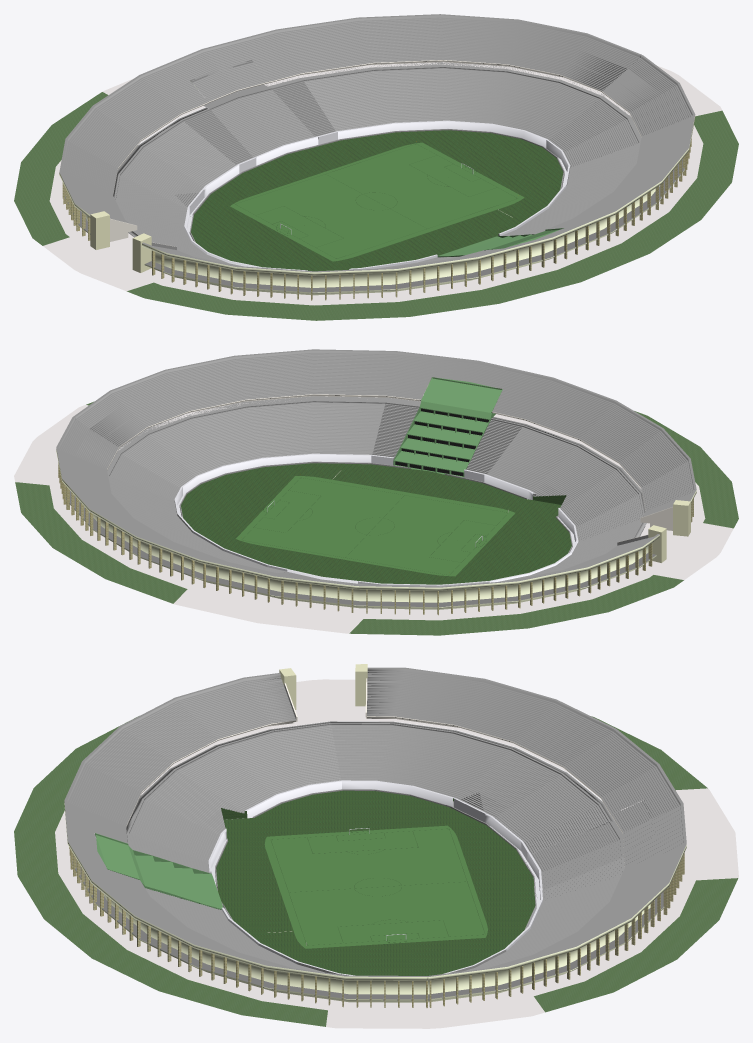
The model's file is Olympia.gltf.
3 renders of one model, top to bottom at view 1: azimuth 30°, elevation 25°; view 2: azimuth 150°, elevation 25°; view 3: azimuth 270°, elevation 25°, orthographic. The views are drawn at different scales.
Visible parts, largest first — view 1: G-__555591, Stadium Body, Stadium Body Sub Floor, G-__555609, Stadium Body.001, Soccer_Field, Stadium Body Sub Floor.001, G-LOWER PRESS, G-Press Upper Stands, G-__555681, G-__555672, G-__555663; view 2: Stadium Body Sub Floor.001, Stadium Body.001, G-__555591, G-__555609, Stadium Body, Soccer_Field, G-__555681, Stadium Body Sub Floor, G-__555663, G-__555672; view 3: G-__555591, Stadium Body, Stadium Body.001, Stadium Body Sub Floor, G-__555609, Soccer_Field, Stadium Body Sub Floor.001, G-__555681, G-LOWER PRESS, G-Press Upper Stands, G-stands floor, G-__555699.
Part boxes in pixels (bbox=[...]): G-__555591: bbox=[14, 62, 738, 320]; Stadium Body: bbox=[59, 14, 641, 241]; Stadium Body Sub Floor: bbox=[113, 62, 604, 254]; G-__555609: bbox=[191, 130, 563, 271]; Stadium Body.001: bbox=[142, 55, 695, 295]; Soccer_Field: bbox=[230, 142, 524, 261]; Stadium Body Sub Floor.001: bbox=[178, 97, 641, 270]; G-LOWER PRESS: bbox=[203, 84, 318, 165]; G-Press Upper Stands: bbox=[190, 59, 270, 102]; G-__555681: bbox=[437, 228, 563, 257]; G-__555672: bbox=[90, 211, 109, 249]; G-__555663: bbox=[132, 233, 151, 272]; Stadium Body Sub Floor.001: bbox=[117, 396, 646, 554]; Stadium Body.001: bbox=[73, 349, 696, 530]; G-__555591: bbox=[14, 394, 738, 635]; G-__555609: bbox=[181, 463, 571, 584]; Stadium Body: bbox=[56, 417, 659, 609]; Soccer_Field: bbox=[236, 476, 514, 576]; G-__555681: bbox=[393, 377, 502, 477]; Stadium Body Sub Floor: bbox=[107, 453, 617, 586]; G-__555663: bbox=[673, 500, 690, 536]; G-__555672: bbox=[648, 525, 666, 562]; G-__555591: bbox=[14, 679, 738, 1028]; Stadium Body: bbox=[365, 667, 686, 1002]; Stadium Body.001: bbox=[64, 673, 428, 1002]; Stadium Body Sub Floor: bbox=[330, 721, 624, 973]; G-__555609: bbox=[216, 790, 535, 975]; Soccer_Field: bbox=[264, 825, 487, 948]; Stadium Body Sub Floor.001: bbox=[126, 721, 354, 975]; G-__555681: bbox=[95, 833, 223, 909]; G-LOWER PRESS: bbox=[526, 821, 623, 898]; G-Press Upper Stands: bbox=[612, 799, 656, 850]; G-stands floor: bbox=[446, 792, 486, 825]; G-__555699: bbox=[271, 828, 484, 945].
Bounding box in the file's own units: 342 × 34.61 × 300.
14 materials, 4 textured.
